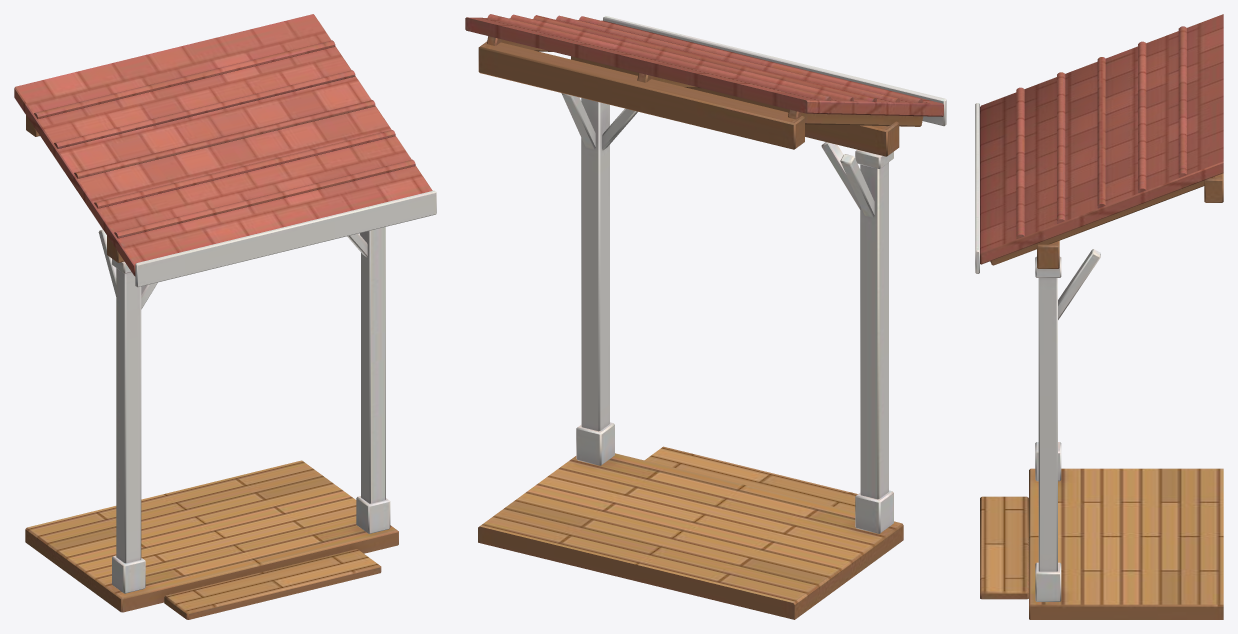
Rendered from porch.glb.
3 renders of one model, left to right at view 1: azimuth 30°, elevation 25°; view 2: azimuth 150°, elevation 25°; view 3: azimuth 270°, elevation 25°, orthographic. The views are drawn at different scales.
Visible parts, largest first — view 1: porch_body; view 2: porch_body; view 3: porch_body.
Boxes of the visible parts, box(x1,y1,x2,y2) form: porch_body: box(14, 14, 436, 619); porch_body: box(465, 14, 946, 619); porch_body: box(975, 14, 1223, 619).
Size of the model in its own units: 2.16 by 3.15 by 1.53.
1 material, 1 textured.
